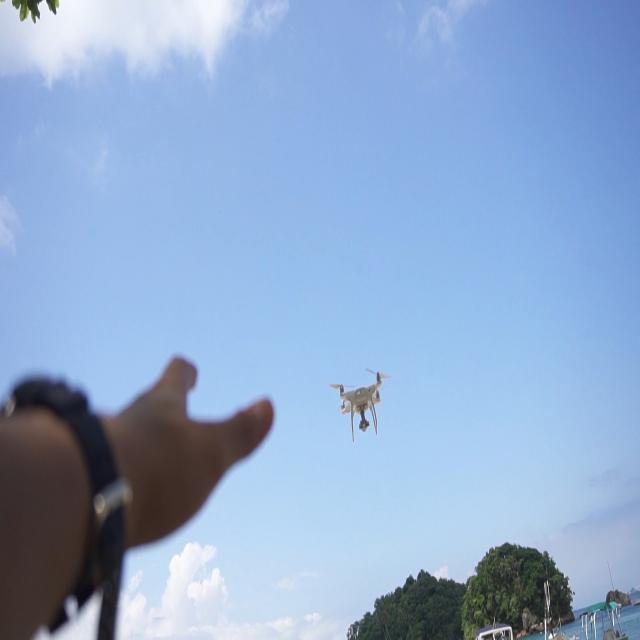Drone: (329, 357, 392, 439)
